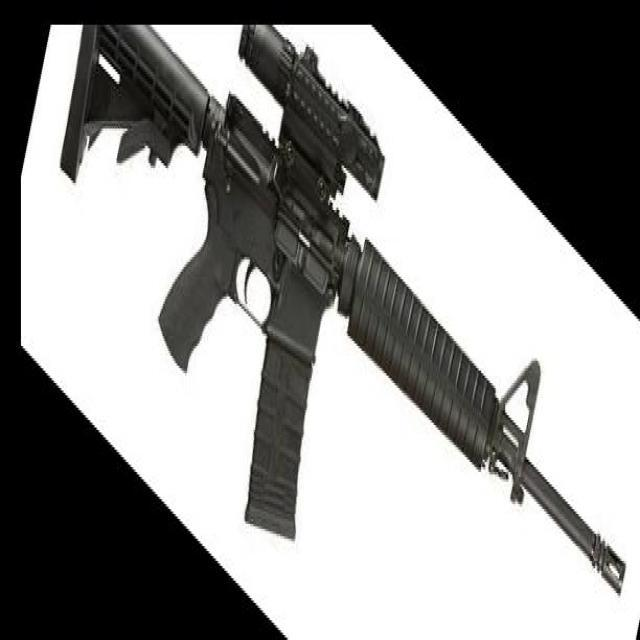weapon: (59, 26, 626, 597)
